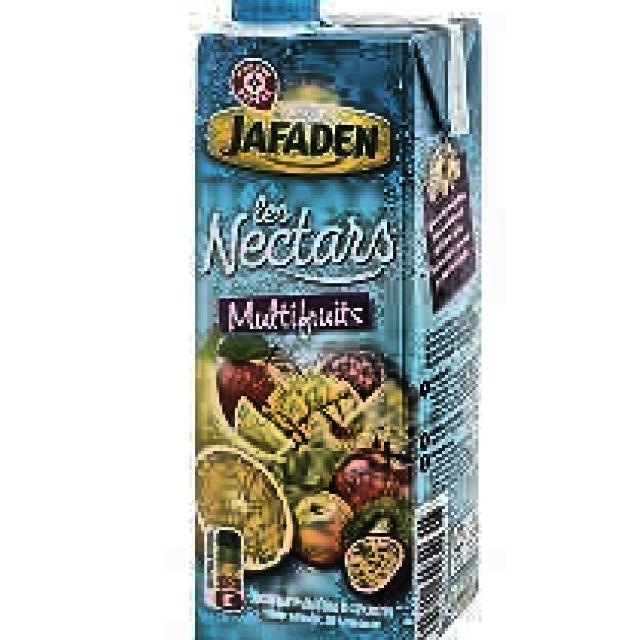cardboard: (188, 0, 482, 640)
